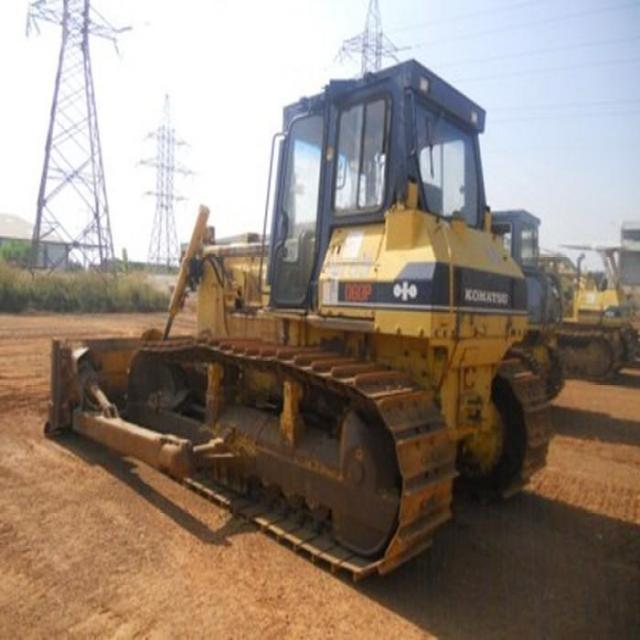Bulldozer: (35, 51, 556, 590)
